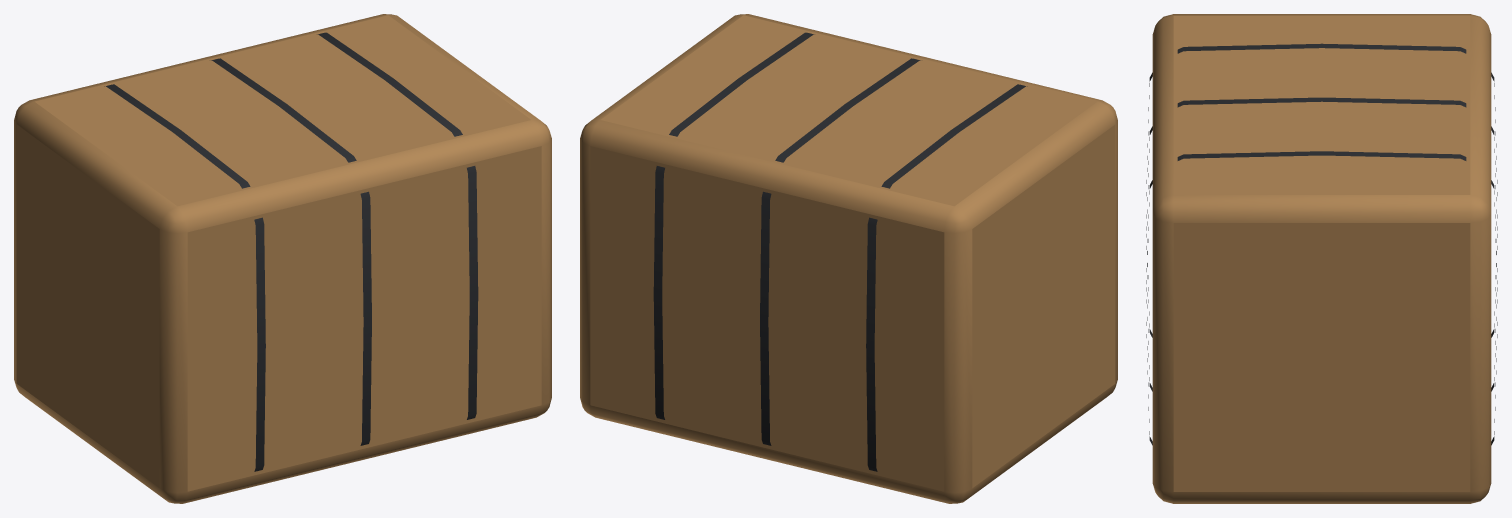
The model's file is bale_cardboard.fbx.
3 views of the same model, side by side, from view 1: azimuth 30°, elevation 25°; view 2: azimuth 150°, elevation 25°; view 3: azimuth 270°, elevation 25° (orthographic). The views are drawn at different scales.
Parts seen in each view (by area): view 1: bale_cardboard; view 2: bale_cardboard; view 3: bale_cardboard.
Part boxes in pixels (x1=…): bale_cardboard: x1=14, y1=14, x2=551, y2=503; bale_cardboard: x1=580, y1=14, x2=1117, y2=503; bale_cardboard: x1=1146, y1=14, x2=1497, y2=503.
Size of the model in its own units: 1.1 by 0.83 by 0.83.
